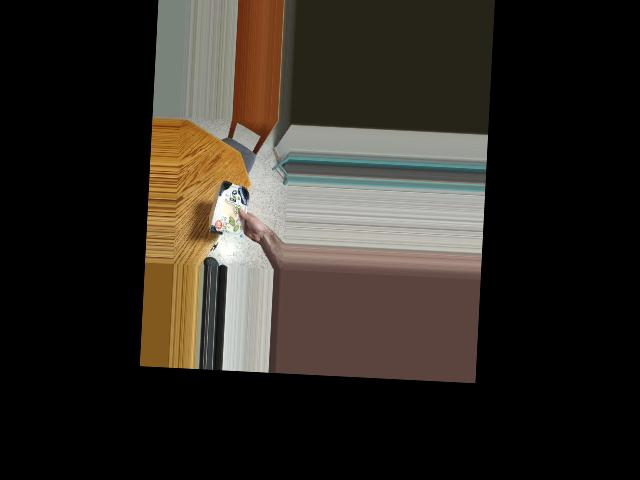cheese: (215, 179, 252, 241)
